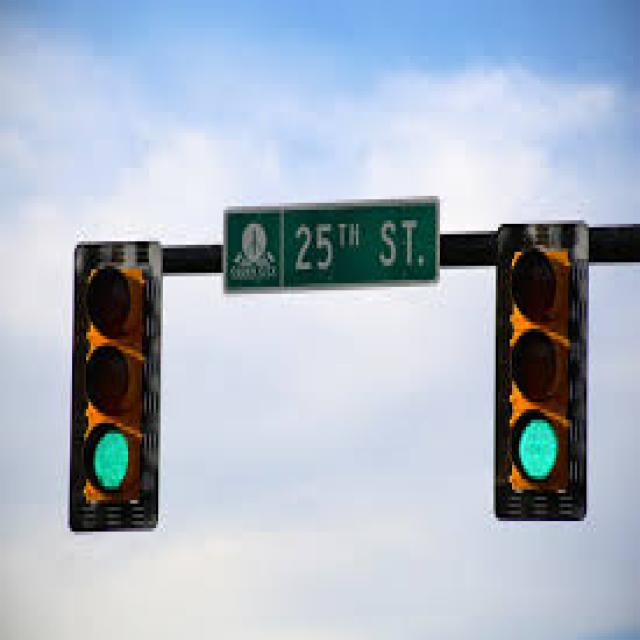green: (502, 232, 588, 514), (72, 240, 153, 531)
